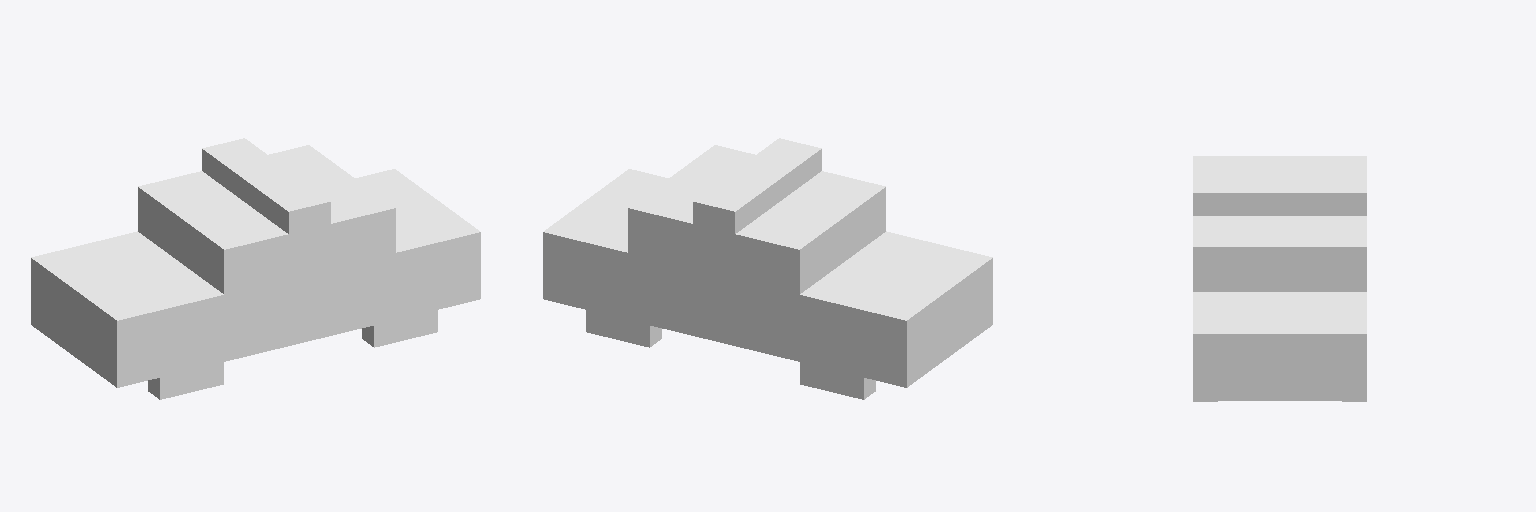
Rendered from cars-6.obj.
3 views of the same model, side by side, from view 1: azimuth 30°, elevation 25°; view 2: azimuth 150°, elevation 25°; view 3: azimuth 270°, elevation 25° (orthographic).
Visible parts, largest first — view 1: object 1; view 2: object 1; view 3: object 1.
Part boxes in pixels (x1,y1,x2,y2): object 1: (31,138,480,399); object 1: (543,138,992,399); object 1: (1193,156,1366,401).
Size of the model in its own units: 1.7 by 0.7 by 0.7.